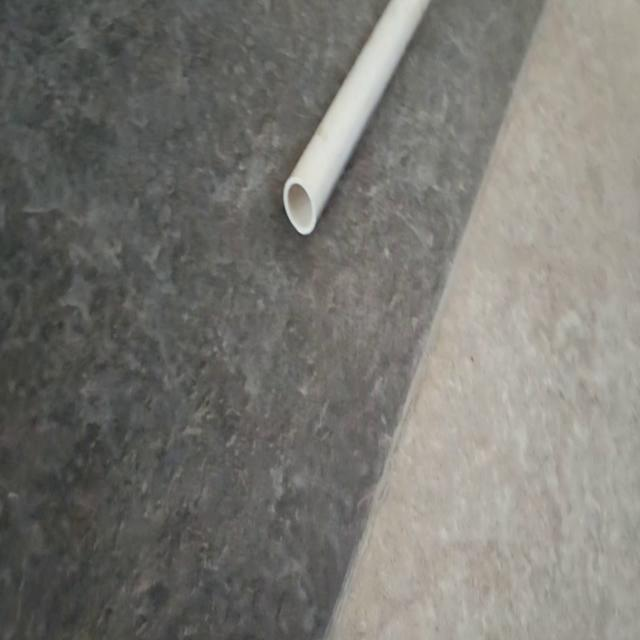Cube: (281, 0, 430, 236)
